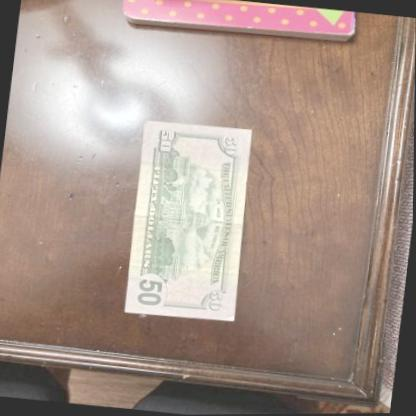fifty-back: (122, 118, 258, 326)
